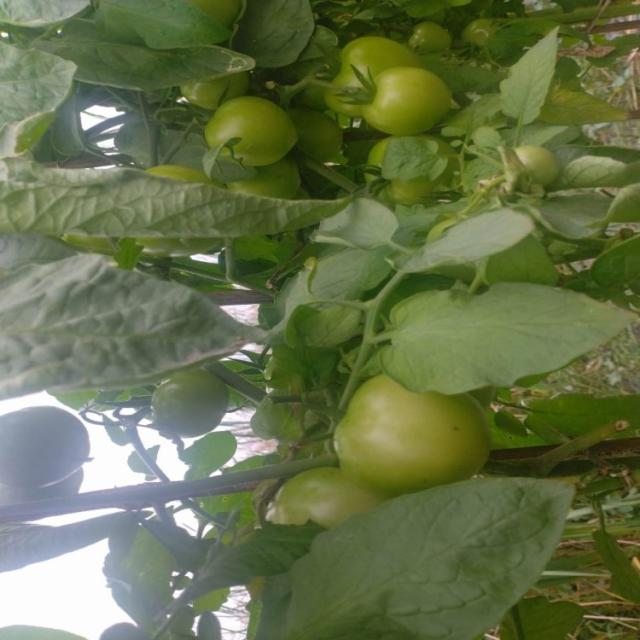tomato: (336, 367, 497, 491), (146, 355, 257, 452), (326, 39, 439, 124), (358, 135, 452, 217), (211, 94, 313, 164), (278, 471, 382, 538), (354, 70, 454, 134), (132, 152, 229, 202), (220, 164, 308, 199), (517, 143, 558, 183), (411, 16, 455, 48), (462, 12, 500, 46)
